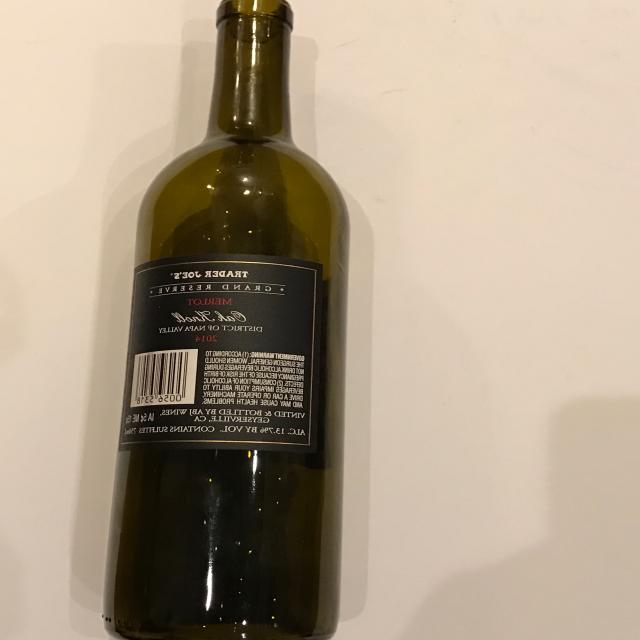glass: (101, 0, 351, 640)
